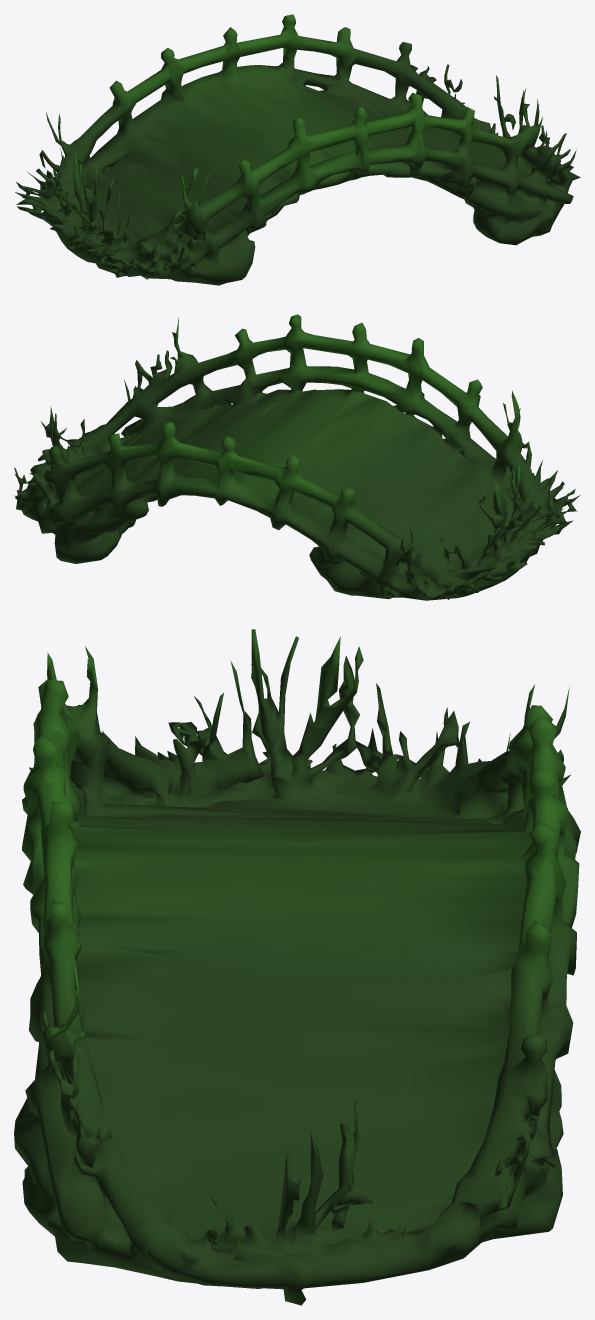
File: arched-bridge.glb
The picture shows the model from 3 angles, top to bottom: view 1: azimuth 30°, elevation 25°; view 2: azimuth 150°, elevation 25°; view 3: azimuth 270°, elevation 25°; orthographic projection. The views are drawn at different scales.
Parts seen in each view (by area): view 1: arched-bridge; view 2: arched-bridge; view 3: arched-bridge.
Boxes of the visible parts, x1,y1,x2,y2 form: arched-bridge: [15, 14, 580, 285]; arched-bridge: [14, 314, 580, 600]; arched-bridge: [14, 629, 580, 1305].
Bounding box in the file's own units: 0.0363 × 0.0125 × 0.0186.
